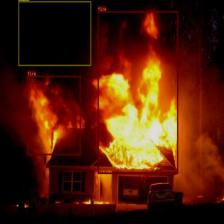fire: (97, 11, 178, 174), (27, 76, 80, 154)
smoke: (18, 0, 91, 66)
